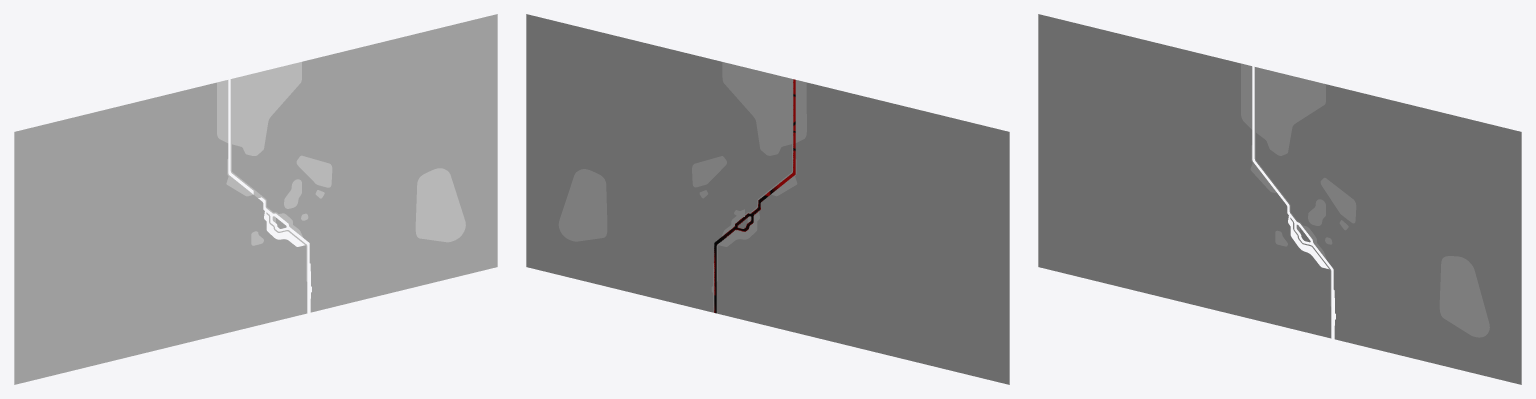
File: Munich.glb
3 renders of one model, left to right at view 1: azimuth 30°, elevation 25°; view 2: azimuth 150°, elevation 25°; view 3: azimuth 330°, elevation 25°, orthographic.
Visible parts, largest first — view 1: Munich_Land, Munich_Grass, Munich_Beach; view 2: Munich_Land, Munich_Grass, Munich_water, Munich_Beach; view 3: Munich_Land, Munich_Grass, Munich_Beach.
Boxes of the visible parts, x1,y1,x2,y2 form: Munich_Land: (14, 14, 497, 384); Munich_Grass: (217, 62, 465, 242); Munich_Beach: (227, 131, 307, 281); Munich_Land: (526, 14, 1009, 384); Munich_Grass: (558, 62, 806, 246); Munich_water: (714, 79, 795, 313); Munich_Beach: (711, 131, 796, 312); Munich_Land: (1038, 14, 1521, 384); Munich_Grass: (1241, 63, 1489, 337); Munich_Beach: (1251, 119, 1331, 306).
Size of the model in its own units: 416 by 208 by 19.06.
Materials: 4 (1 with a texture image).
